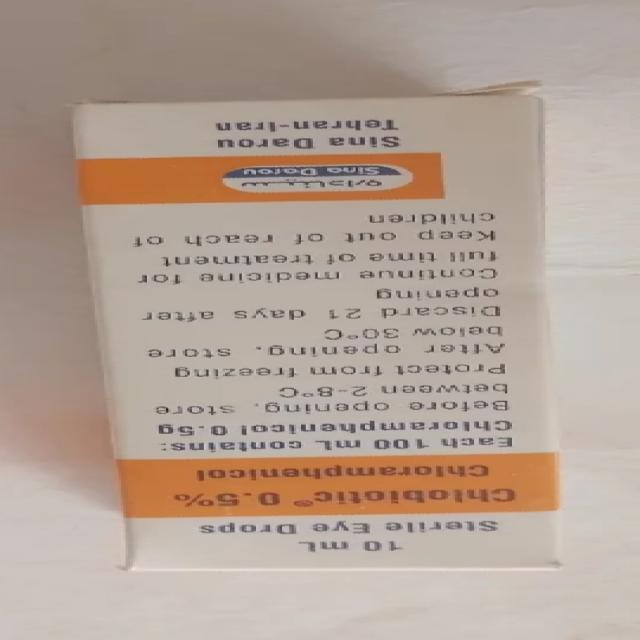drug-name: (174, 486, 519, 508)
